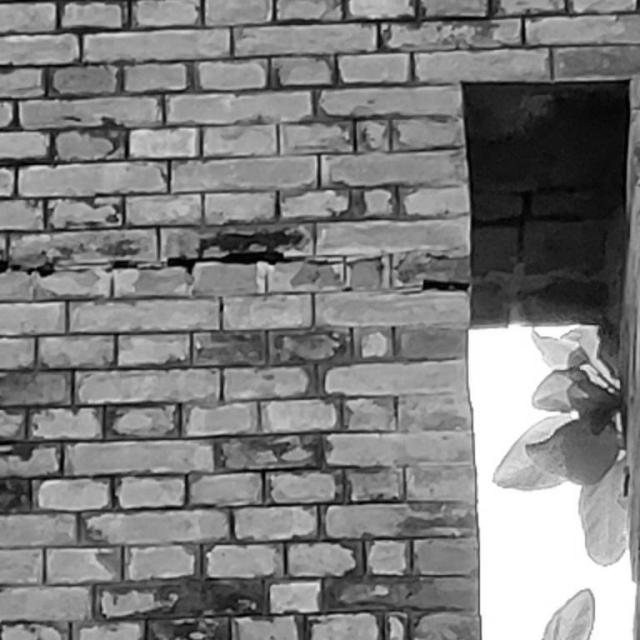crack: (1, 251, 331, 277), (472, 194, 590, 264), (420, 279, 469, 294)
